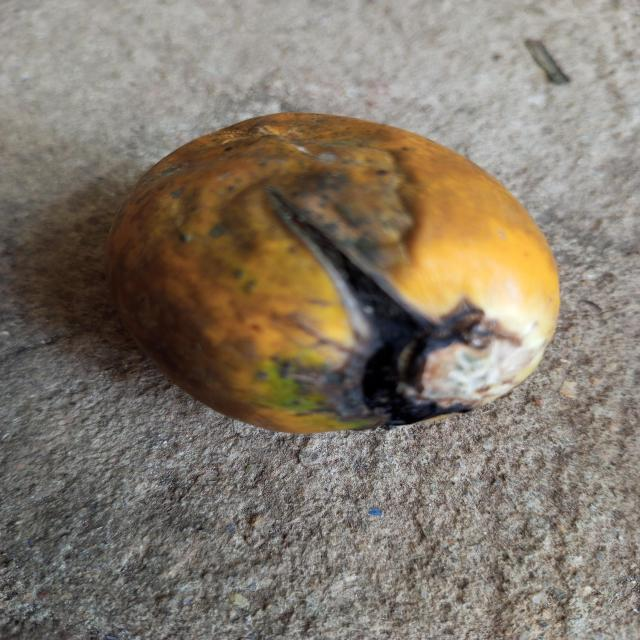damaged: (107, 113, 559, 433)
